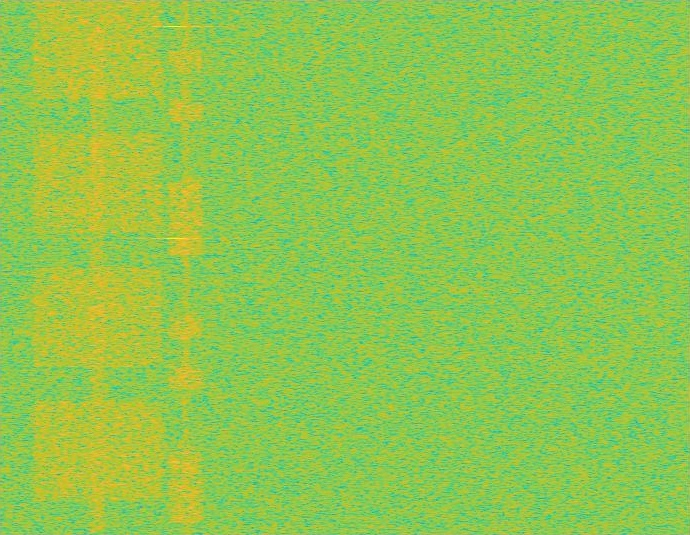5G: (29, 0, 167, 534)
DSSS: (89, 0, 107, 534), (182, 0, 190, 534)
LTE: (169, 0, 203, 534)
Radar: (169, 0, 182, 534)
